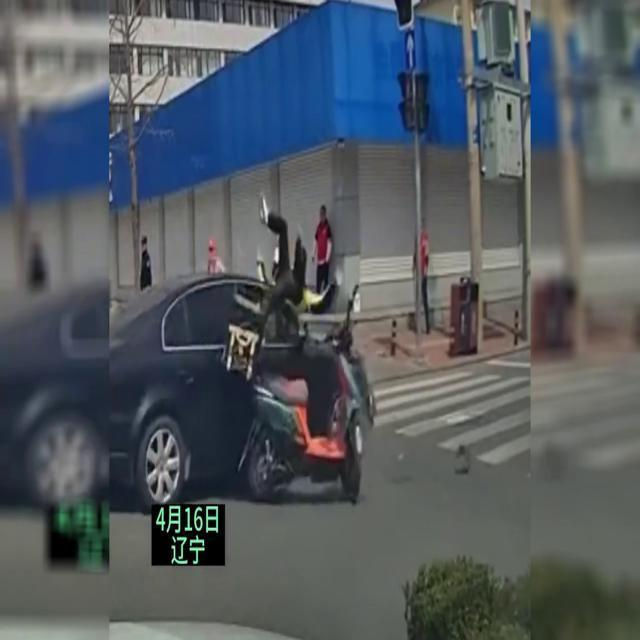accident: (115, 206, 377, 504)
